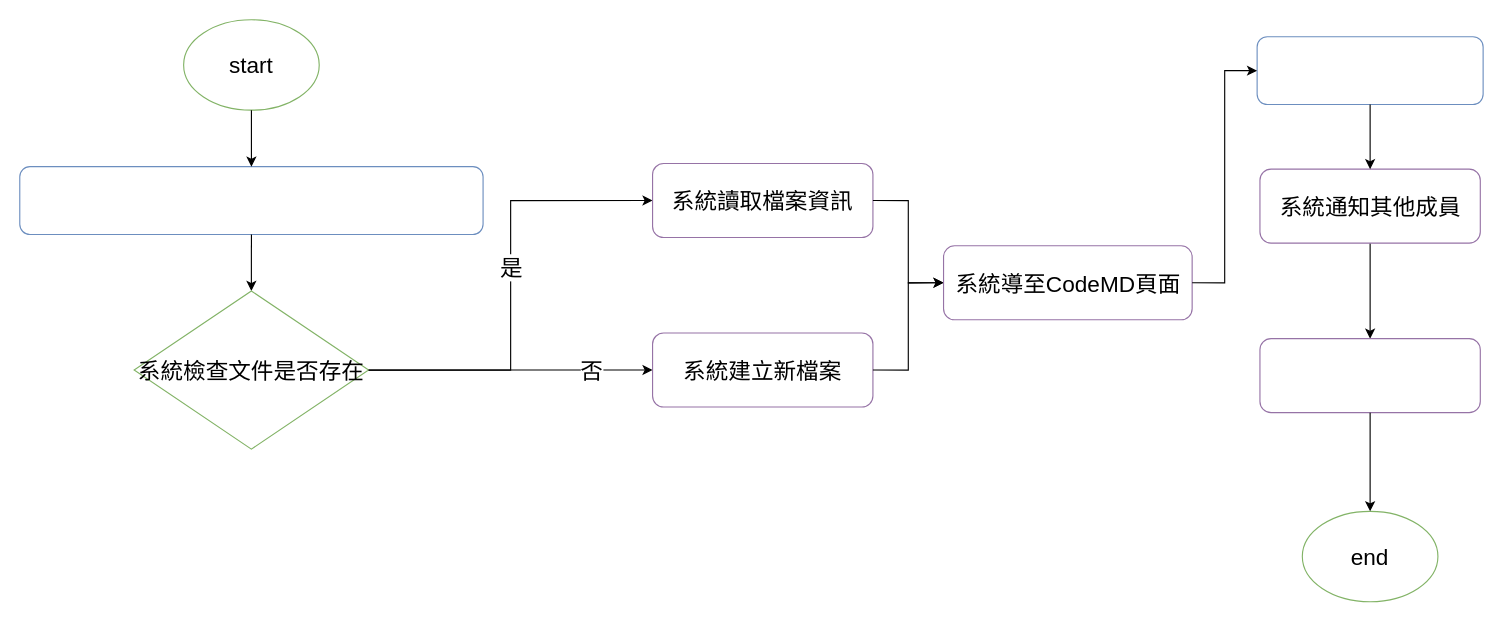
Image size: 1503x622. Some labels were removed from this diagram. Each missing label, with the box of its shape:
使用者修改文件: (1256, 36, 1483, 105)
使用者編輯文件(需求文件、設計文件...等): (19, 166, 483, 234)
系統更新檔案: (1259, 338, 1480, 413)
